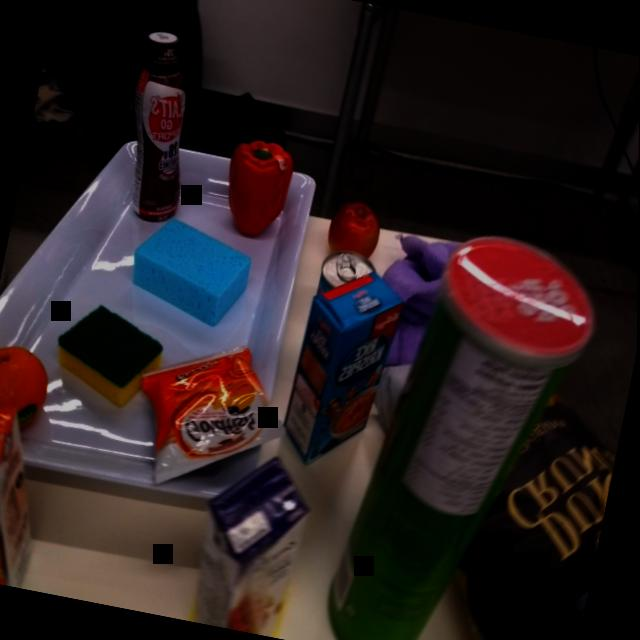apple: (324, 195, 389, 263)
cereal: (271, 256, 415, 479)
chocolate_drink: (106, 26, 214, 229)
crackers: (119, 322, 308, 514)
grape_juice: (186, 448, 327, 640)
orange: (0, 337, 58, 437)
paprika: (216, 133, 300, 244)
pringles: (315, 212, 618, 640)
sponge_opl: (122, 210, 261, 336)
